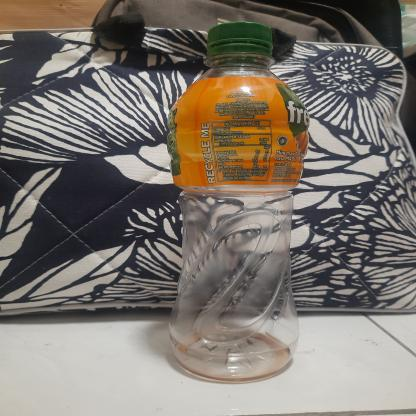bottle: (166, 19, 310, 385)
